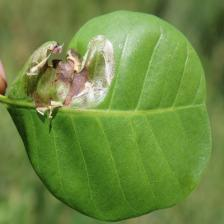leaf miner: (0, 9, 212, 222)
